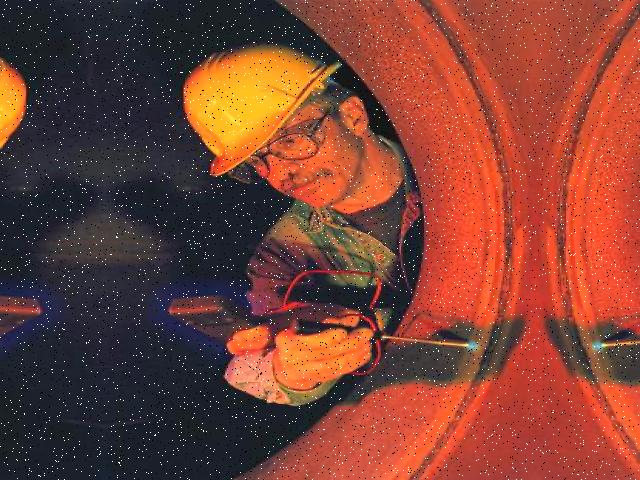Helmet: (178, 39, 356, 188)
